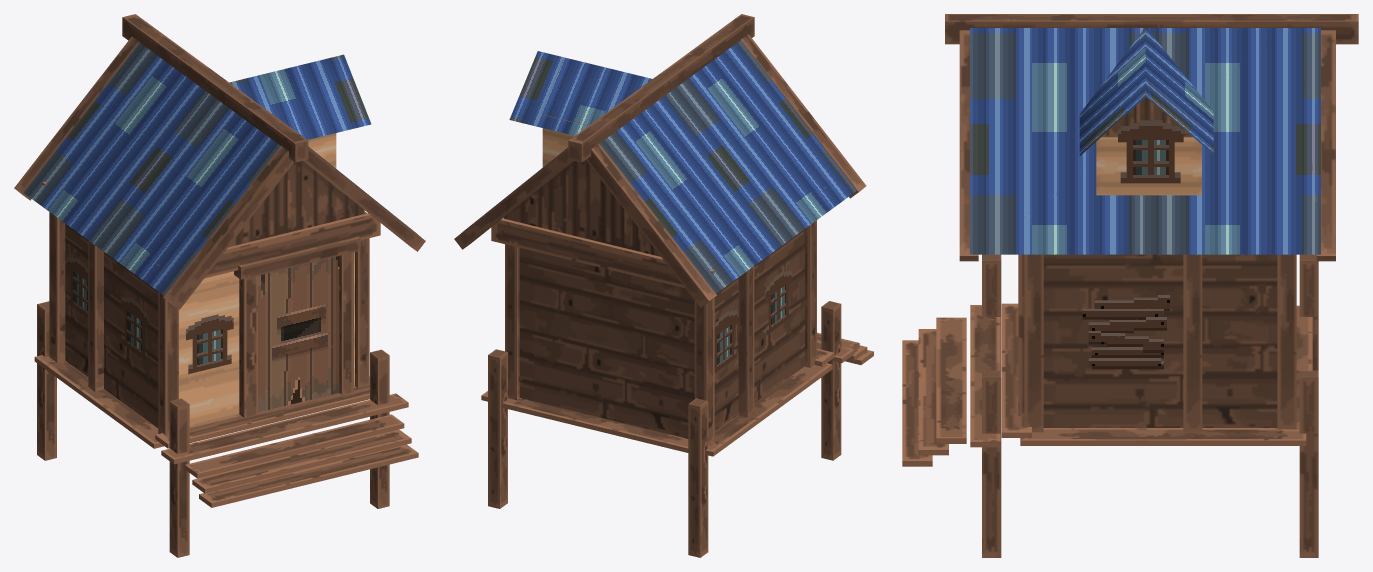
File: SM_House02.FBX
3 renders of one model, left to right at view 1: azimuth 30°, elevation 25°; view 2: azimuth 150°, elevation 25°; view 3: azimuth 270°, elevation 25°, orthographic. The views are drawn at different scales.
Parts seen in each view (by area): view 1: Box190; view 2: Box190; view 3: Box190.
Boxes of the visible parts, left/top/right/bottom form: Box190: left=14, top=14, right=425, bottom=557; Box190: left=454, top=14, right=873, bottom=557; Box190: left=902, top=14, right=1358, bottom=557.
Size of the model in its own units: 51 by 76.68 by 66.07.
